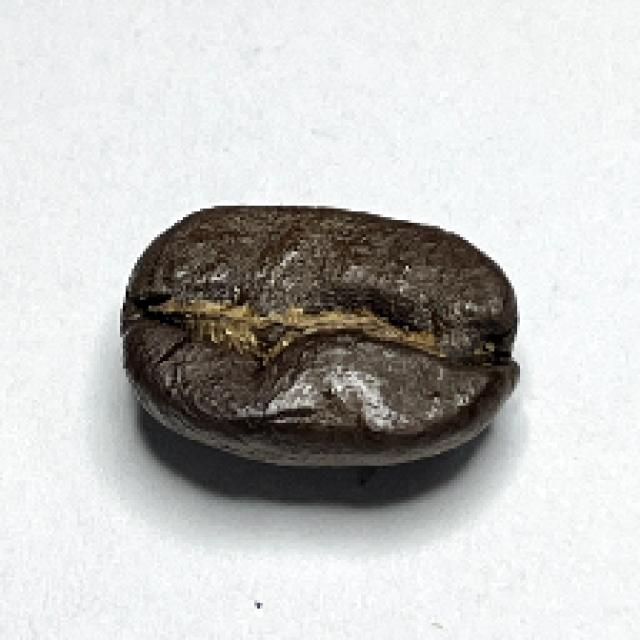bean: (118, 208, 522, 470)
